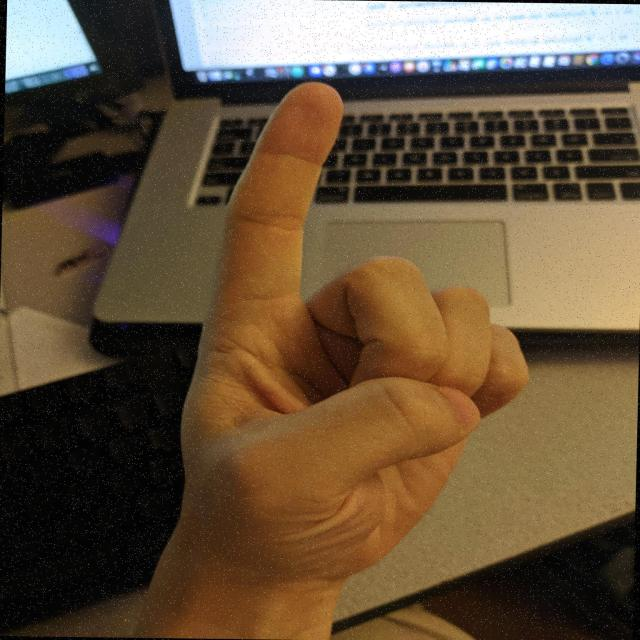D: (166, 76, 544, 592)
